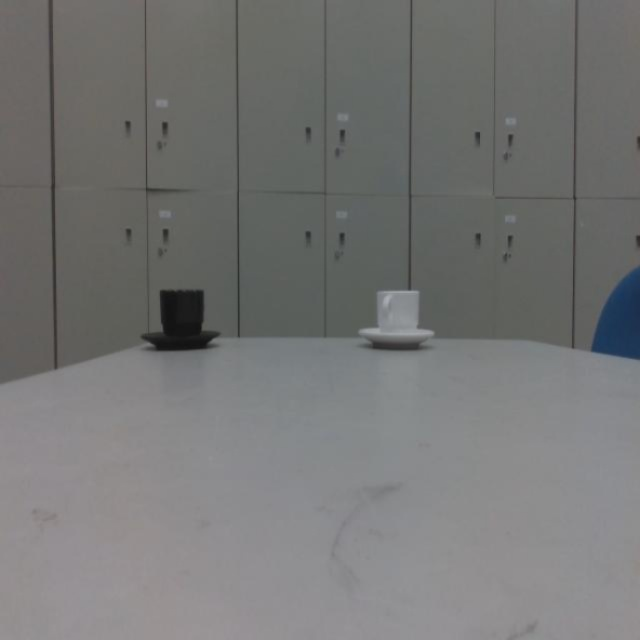black: (138, 285, 220, 354)
white: (358, 288, 436, 351)
